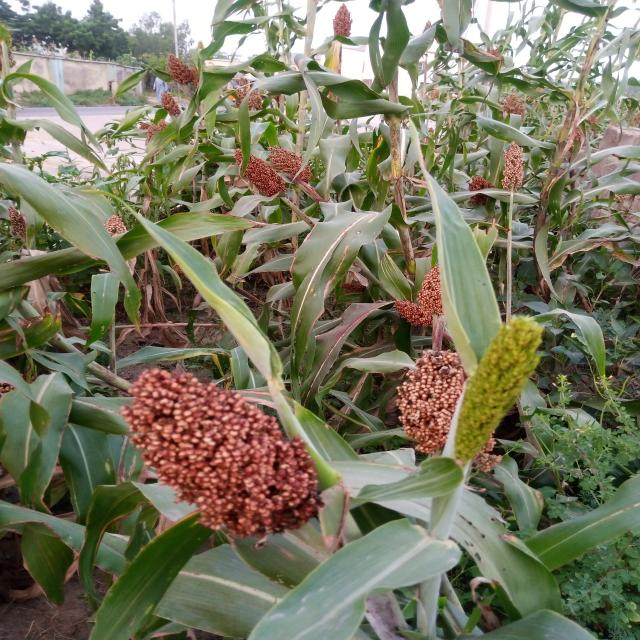RipeSorghum: (80, 361, 346, 533), (391, 344, 471, 446), (372, 258, 455, 324), (230, 138, 308, 195)
UnripeSorghum: (472, 306, 551, 459)
